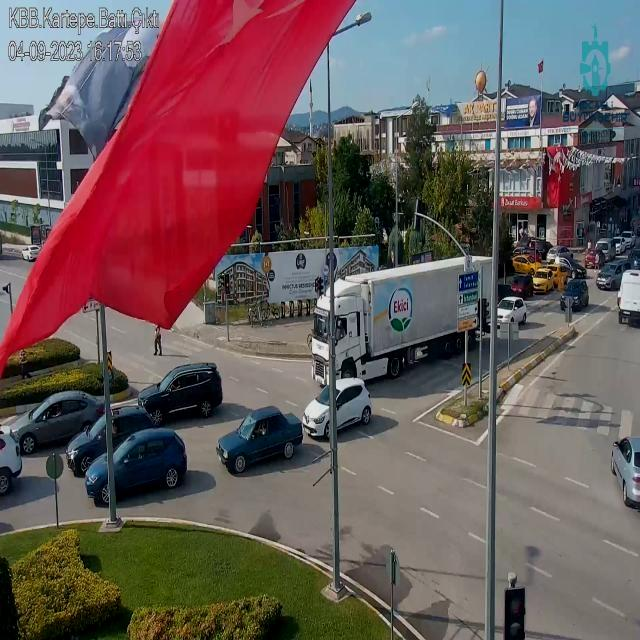Car: (88, 428, 190, 505), (10, 385, 111, 444), (136, 360, 227, 423), (217, 408, 300, 475), (301, 376, 372, 444), (493, 292, 529, 326)
Truck: (307, 253, 498, 388)
